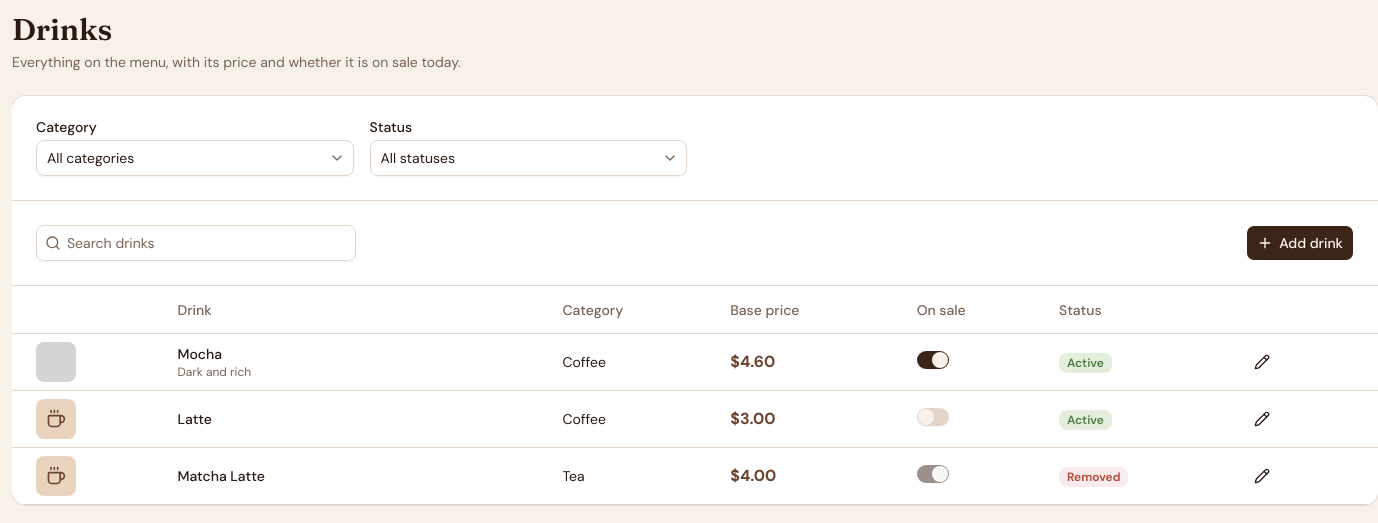
Scenario: ProductsPage (FR-07, FR-22, FR-25) › puts a sold-out drink back on sale (FR-22)
Click the switch named "On sale: Latte" at (933, 417), box 917,408 -> 949,426
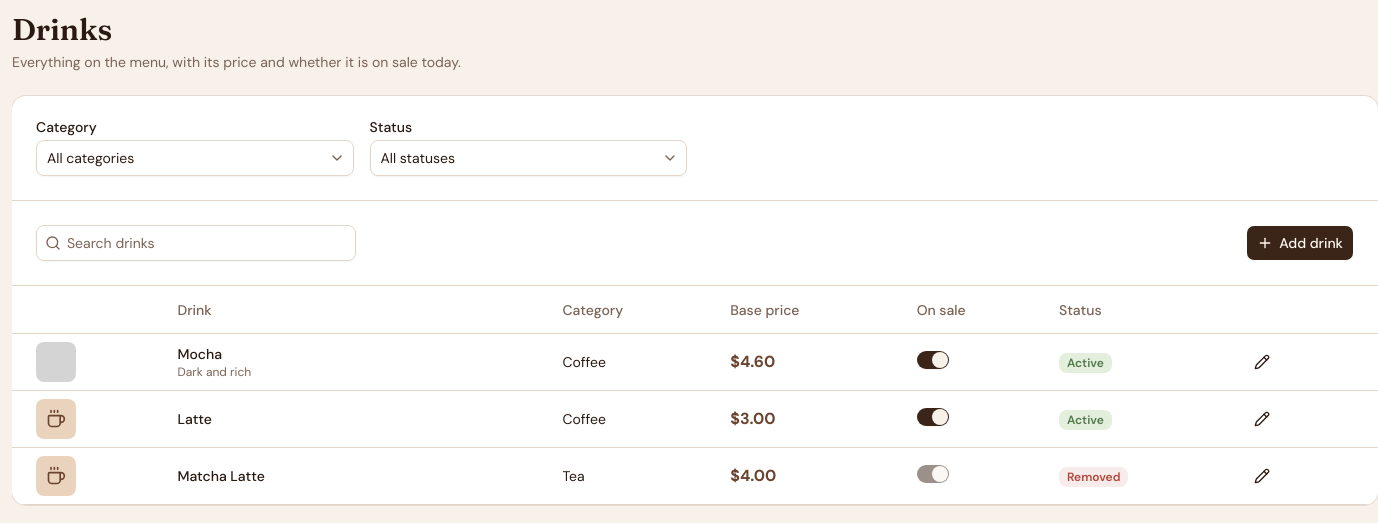
expect the switch named "On sale: Latte" is checked: met, box 917,408 -> 949,426
